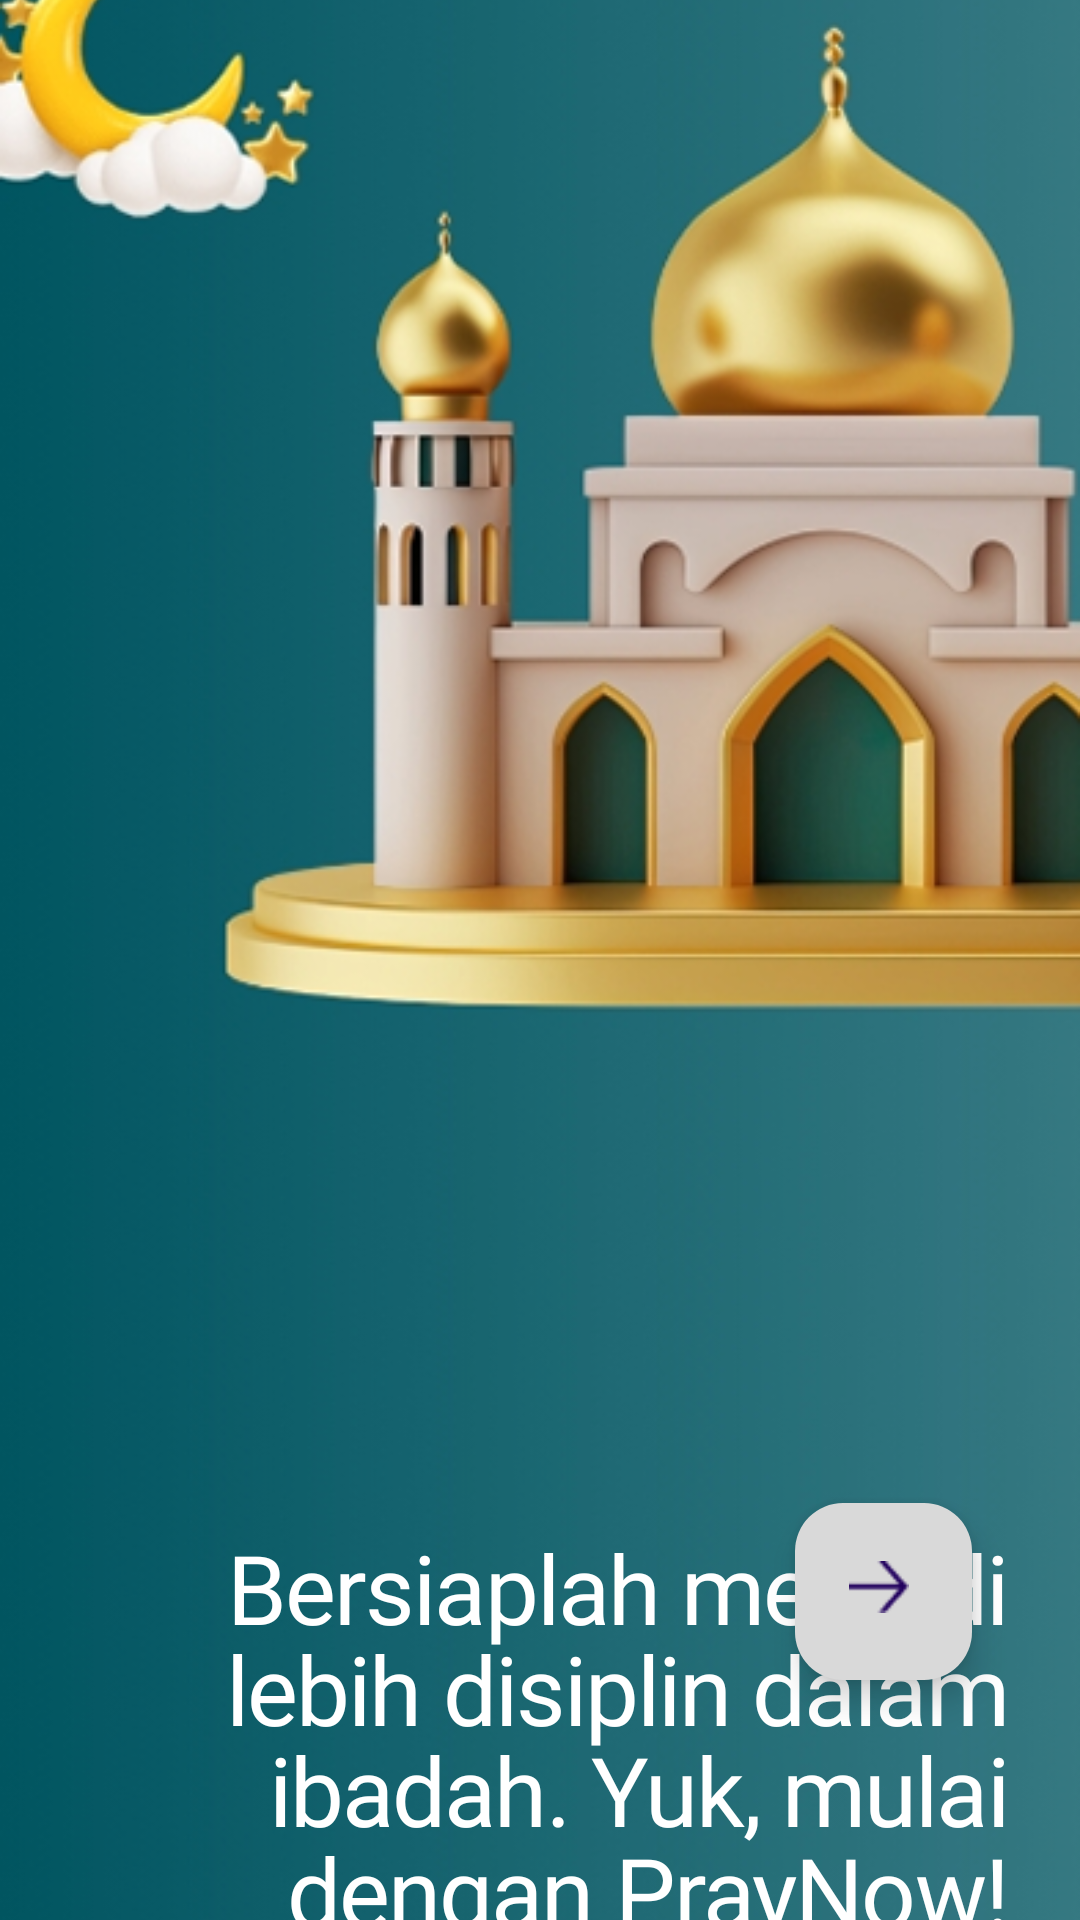

Named icons in this screenshot (1080×1920) and their bounding boxes, (x1, y1, x2, y2):
next: (795, 1503, 972, 1680)
